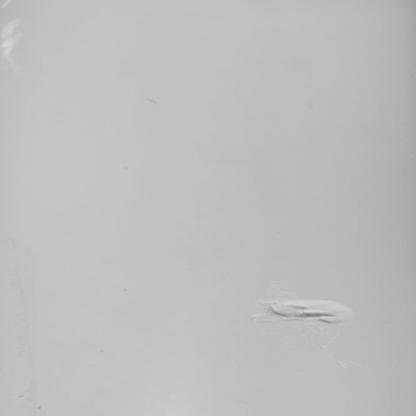sunshang: (262, 298, 355, 327), (1, 20, 28, 68)
